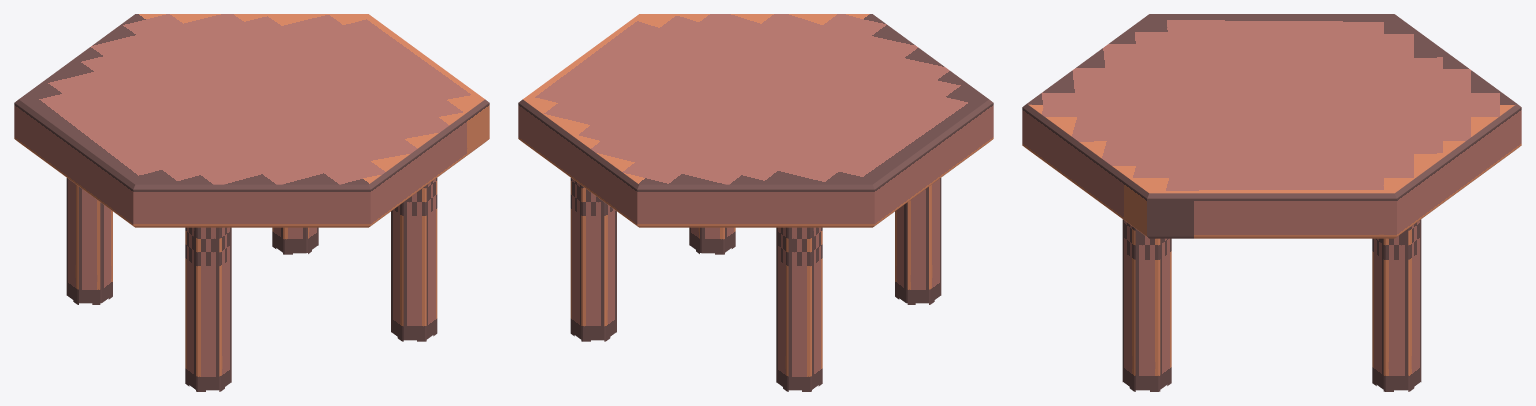
File: table.fbx
3 views of the same model, side by side, from view 1: azimuth 30°, elevation 25°; view 2: azimuth 150°, elevation 25°; view 3: azimuth 270°, elevation 25° (orthographic). The views are drawn at different scales.
Parts seen in each view (by area): view 1: Cylinder, Cylinder.001; view 2: Cylinder, Cylinder.001; view 3: Cylinder, Cylinder.001.
Boxes of the visible parts, x1=… form: Cylinder: x1=14, y1=14, x2=489, y2=227; Cylinder.001: x1=66, y1=178, x2=437, y2=391; Cylinder: x1=518, y1=14, x2=993, y2=227; Cylinder.001: x1=570, y1=178, x2=941, y2=391; Cylinder: x1=1022, y1=14, x2=1521, y2=238; Cylinder.001: x1=1122, y1=219, x2=1421, y2=391.
Size of the model in its own units: 173 by 100 by 200.
